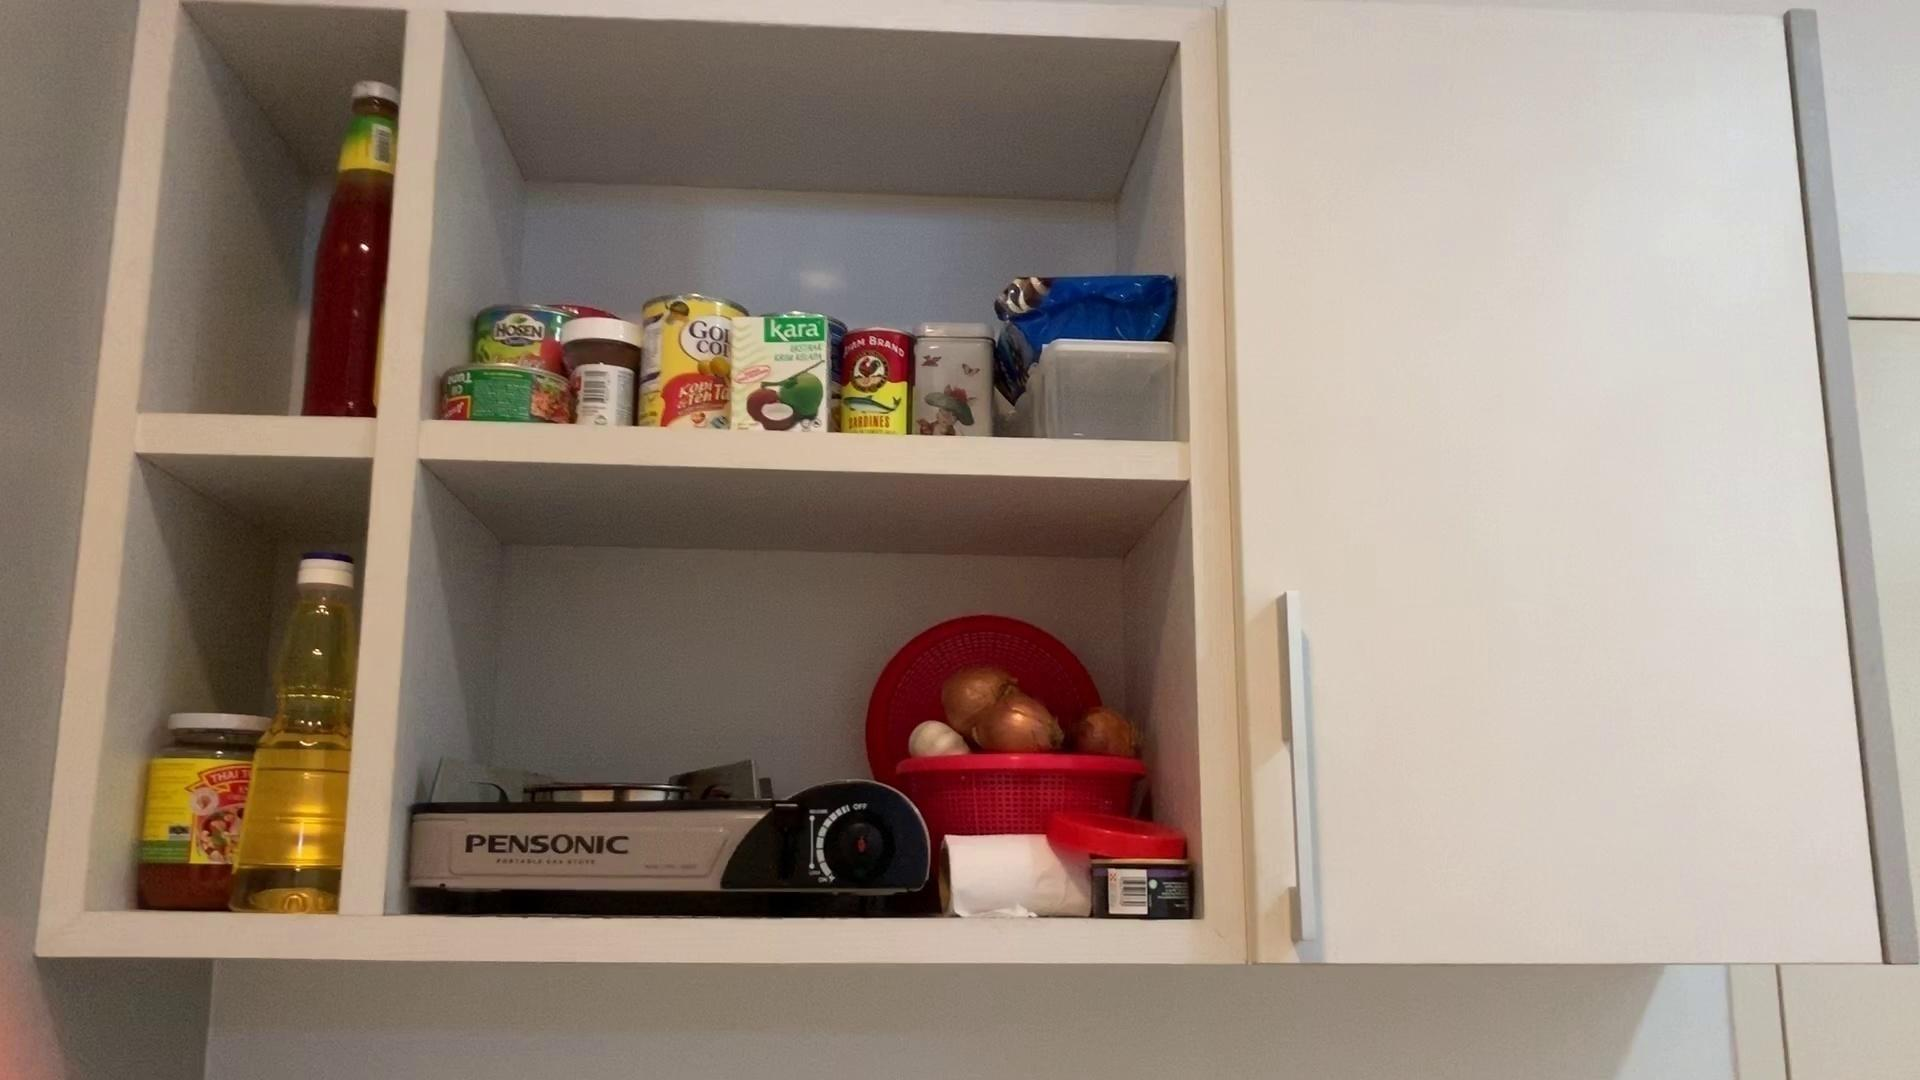cabinet_door: (1244, 0, 1799, 963)
handle: (1266, 579, 1331, 956)
